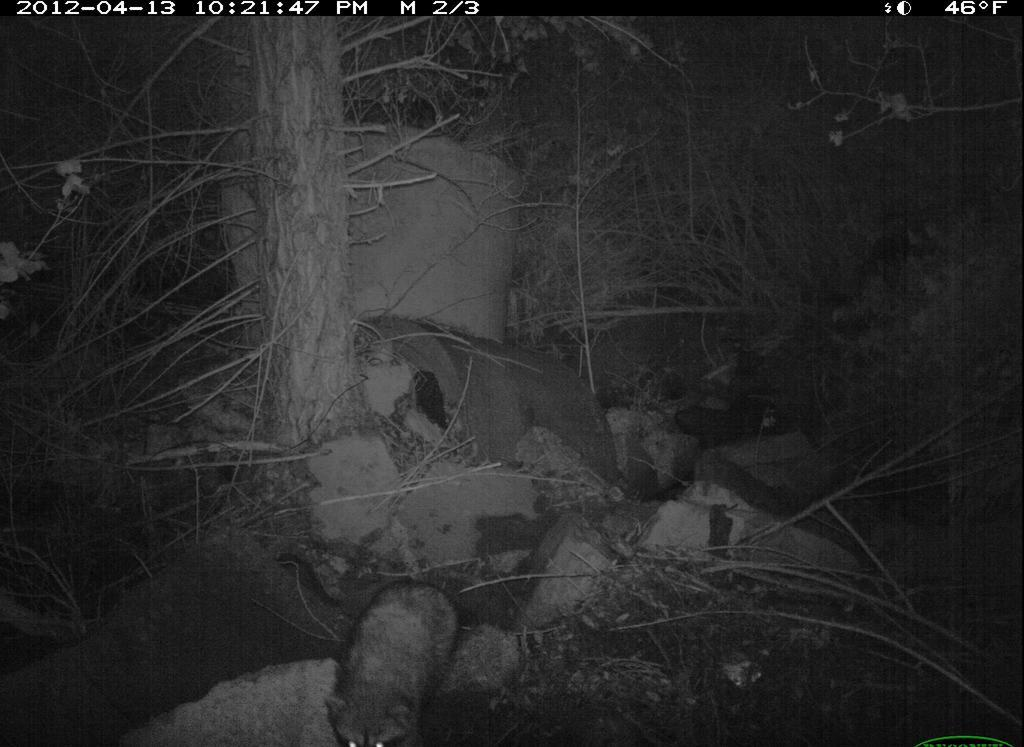raccoon: (310, 564, 481, 747)
